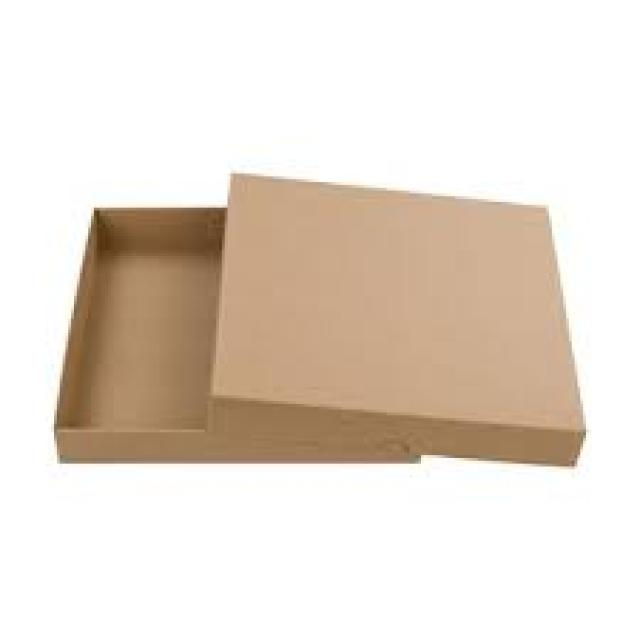cardboard: (202, 168, 580, 464), (51, 205, 418, 464)
